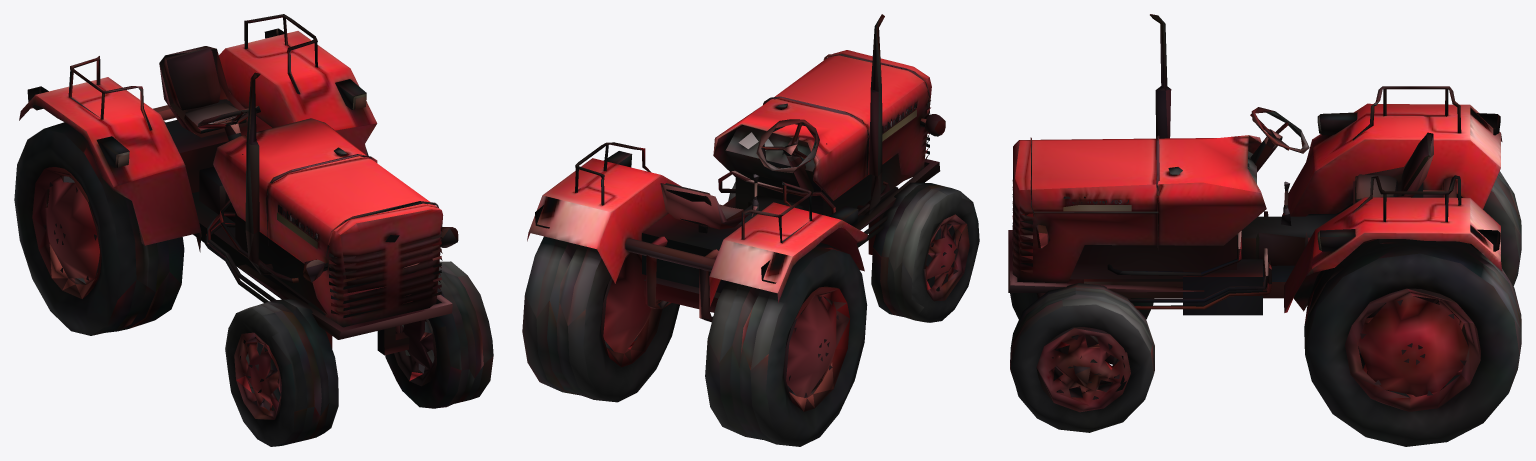
The model's file is v_tractor.glb.
3 renders of one model, left to right at view 1: azimuth 30°, elevation 25°; view 2: azimuth 150°, elevation 25°; view 3: azimuth 270°, elevation 25°, orthographic. The views are drawn at different scales.
Parts seen in each view (by area): view 1: body|Material.005; view 2: body|Material.005; view 3: body|Material.005.
Boxes of the visible parts, left/top/right/bottom form: body|Material.005: left=14, top=14, right=493, bottom=446; body|Material.005: left=522, top=14, right=979, bottom=446; body|Material.005: left=1008, top=14, right=1521, bottom=446.
Bounding box in the file's own units: 2.49 × 2.95 × 4.05.
1 material, 1 textured.
